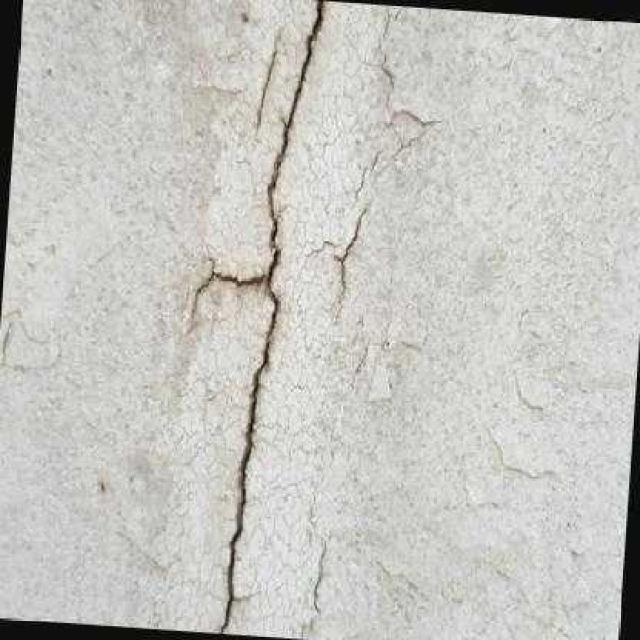D00: (219, 0, 324, 634), (187, 270, 263, 322)
